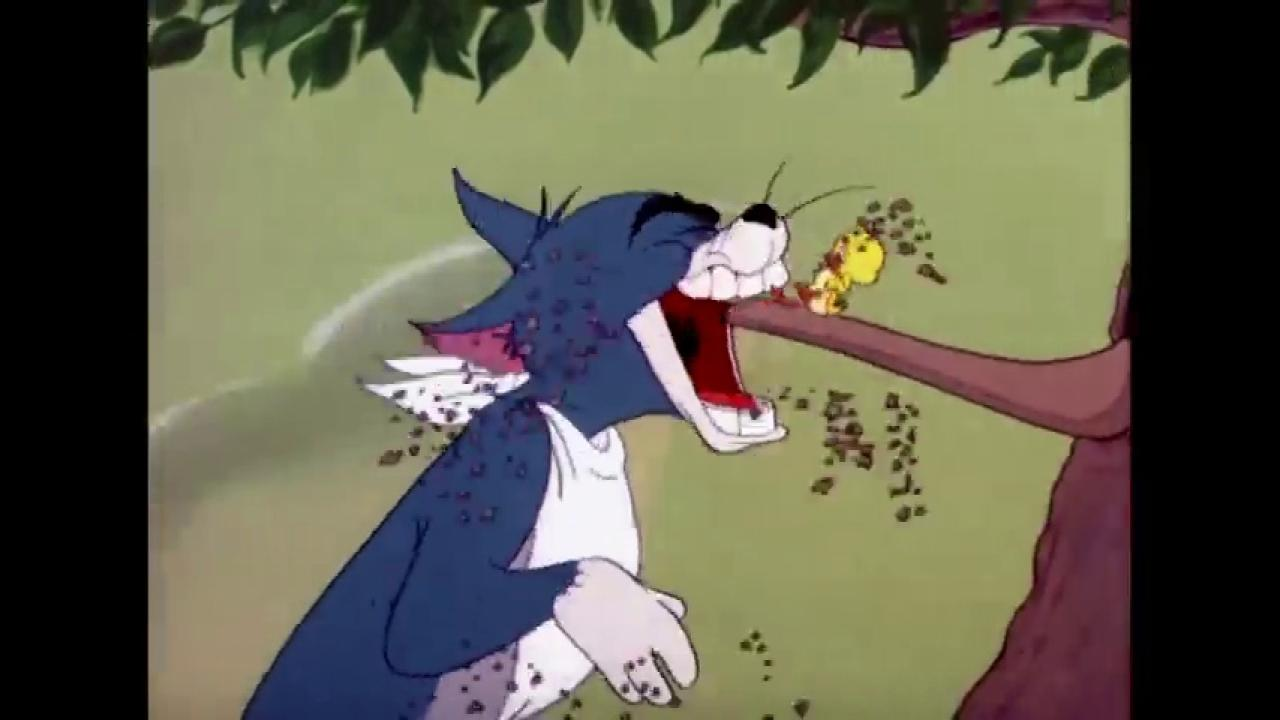Tom: (238, 163, 788, 720)
